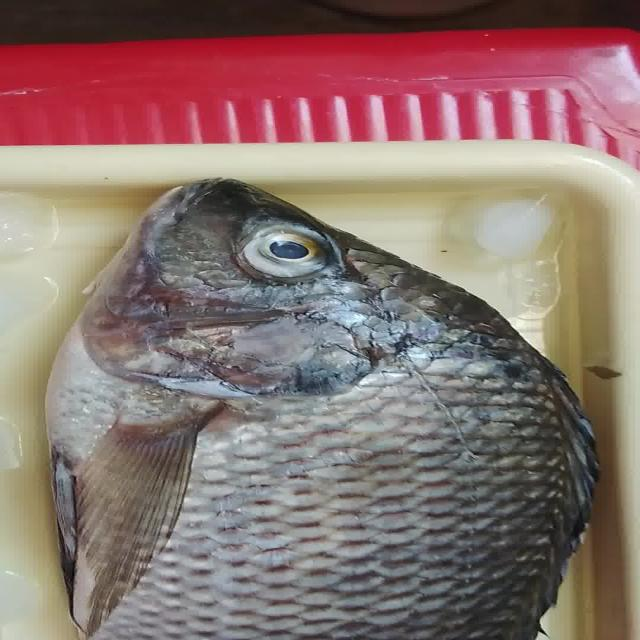Fresh: (0, 324, 636, 640), (198, 218, 387, 290)
